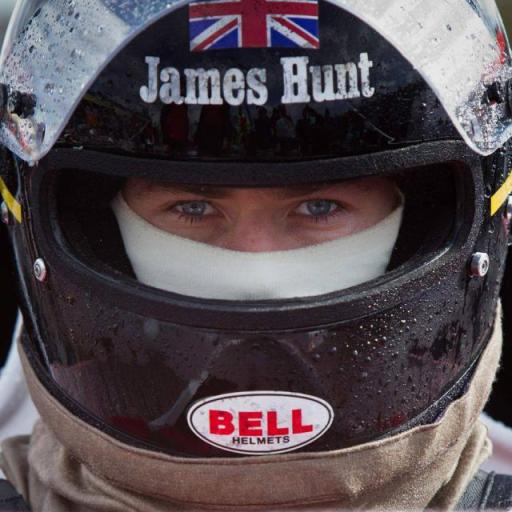Helmet: (0, 0, 511, 456)
